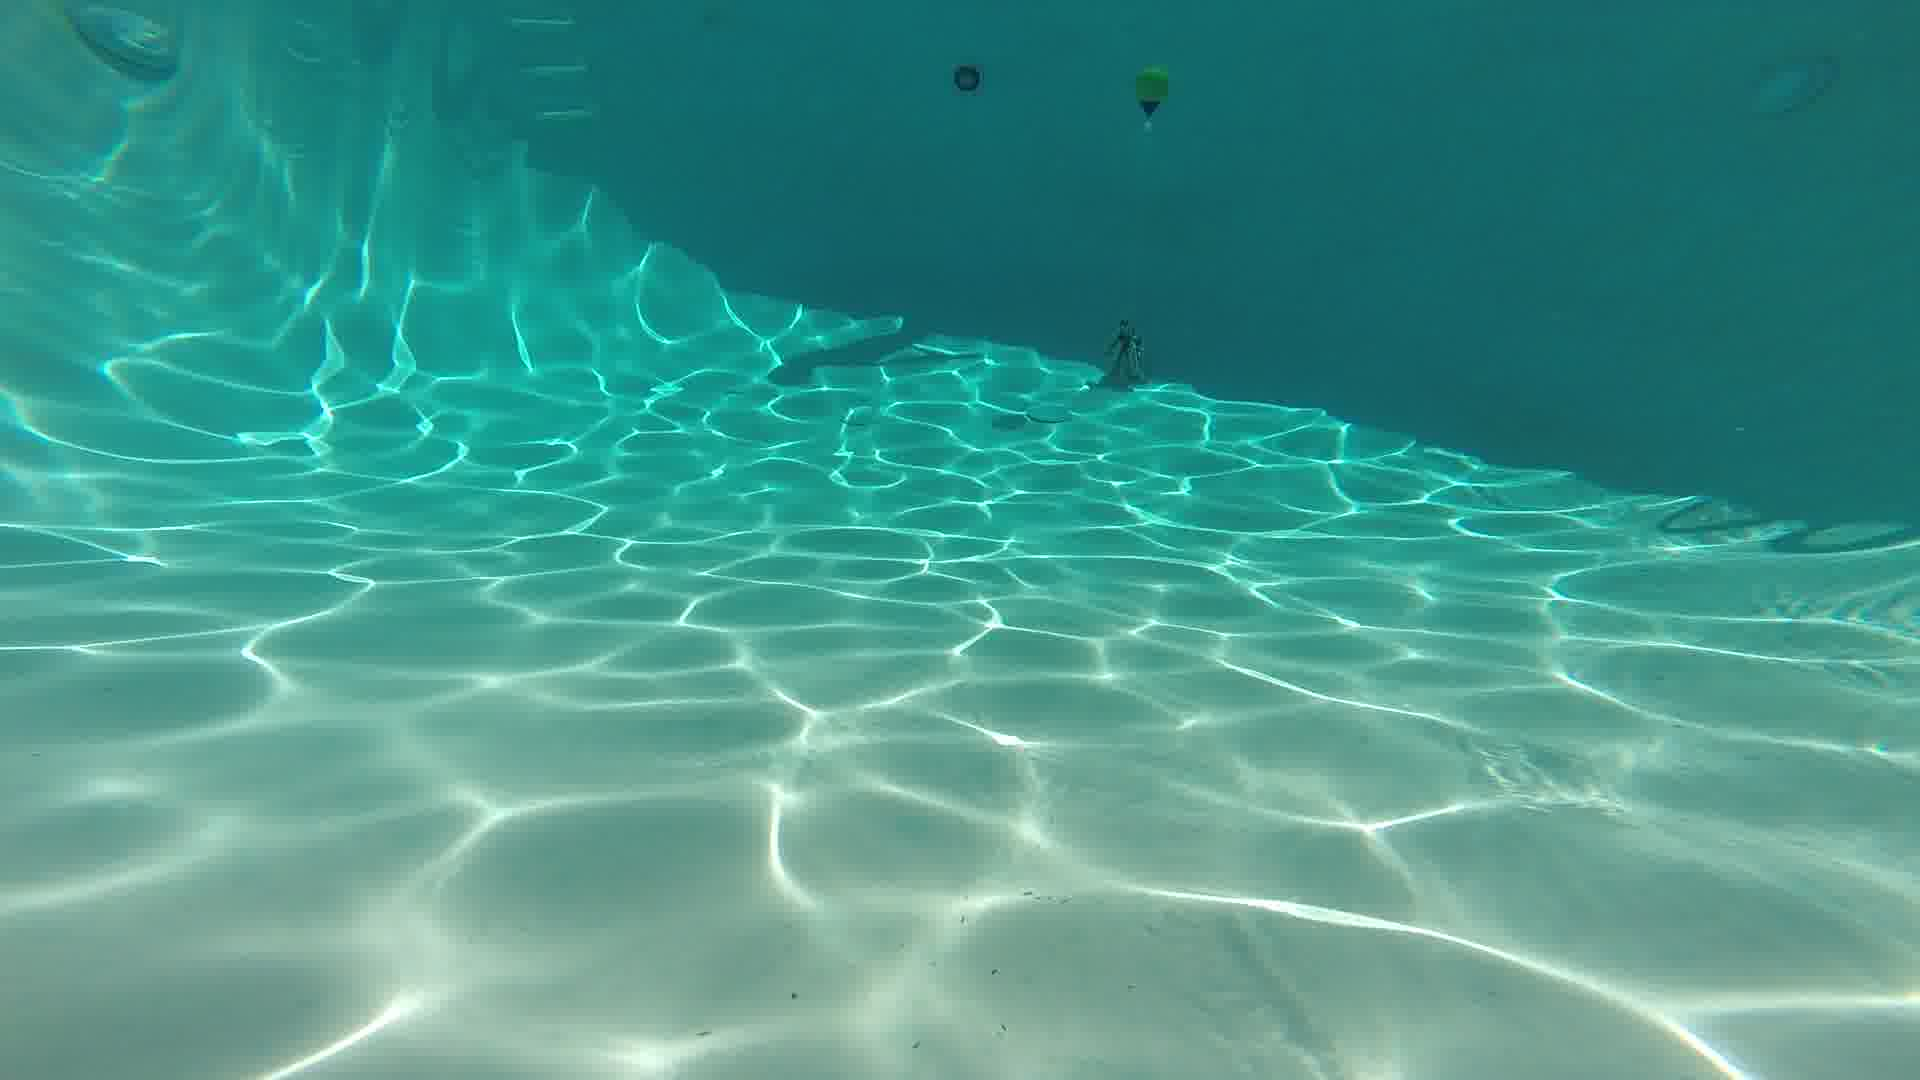yellow buoy: (1126, 58, 1174, 135)
